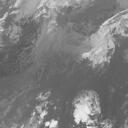cyclone: (86, 32, 115, 65)
